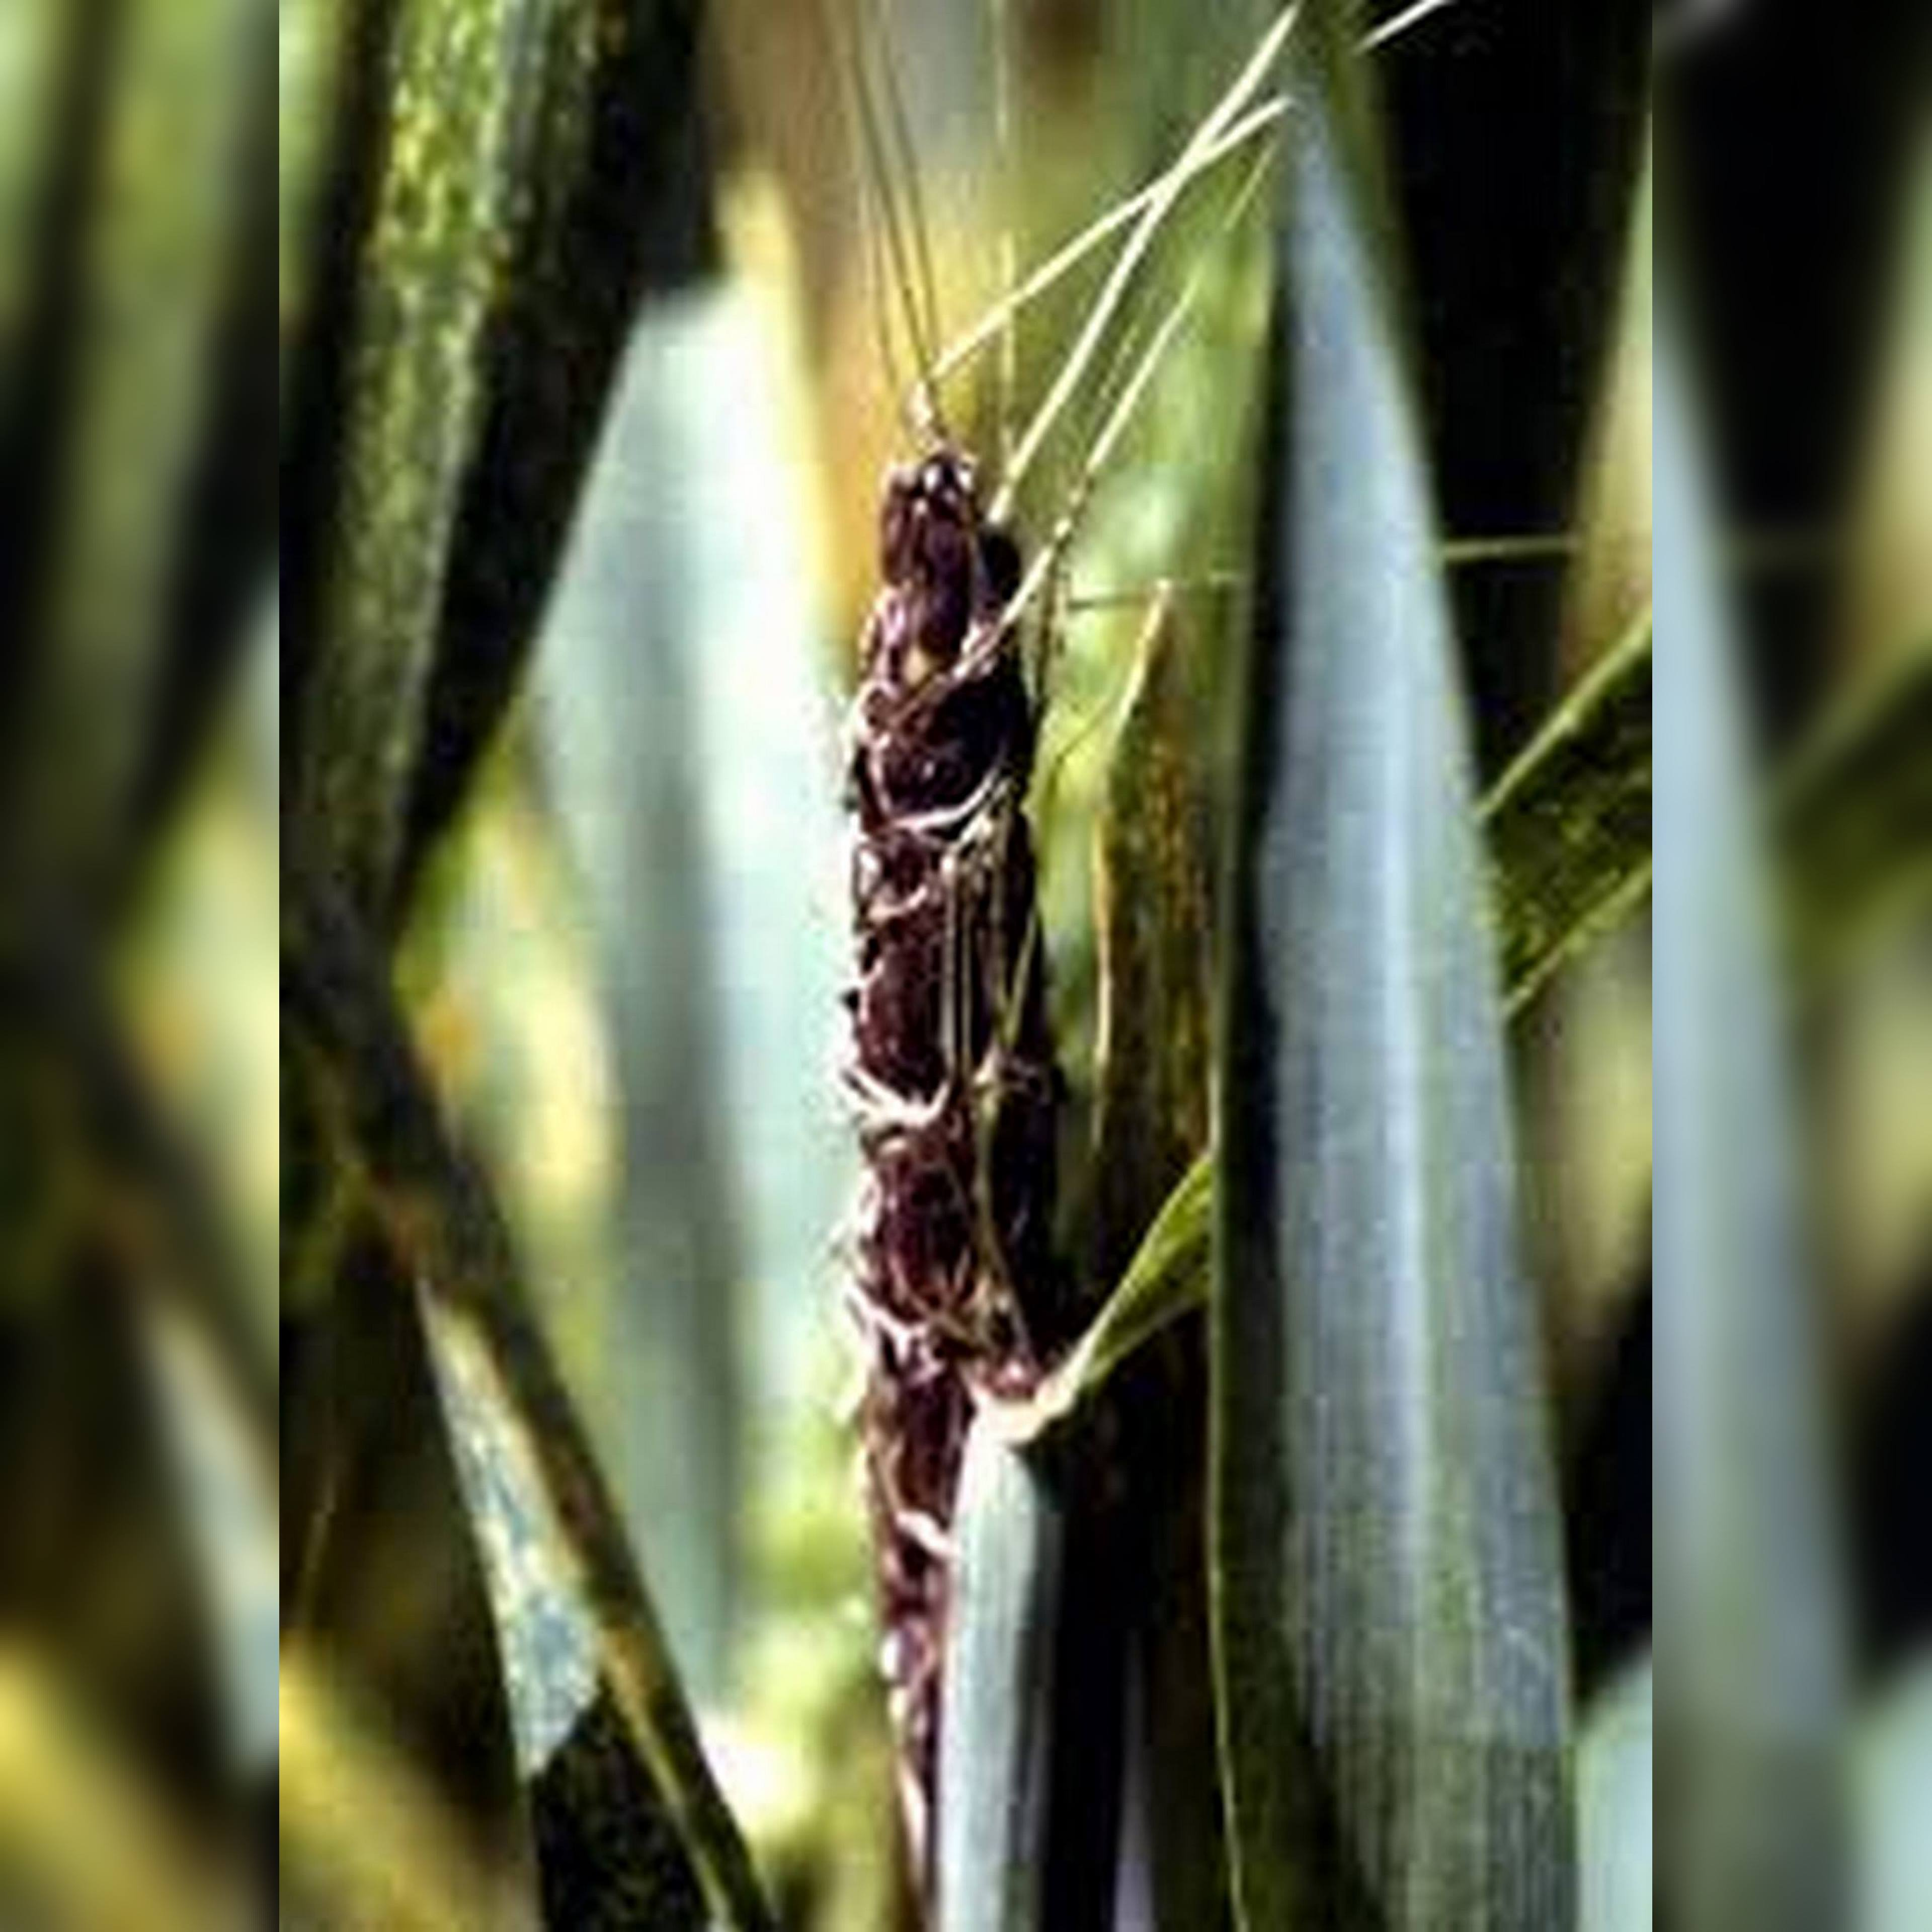Wheat Loose Smut: (748, 391, 1115, 1398)
